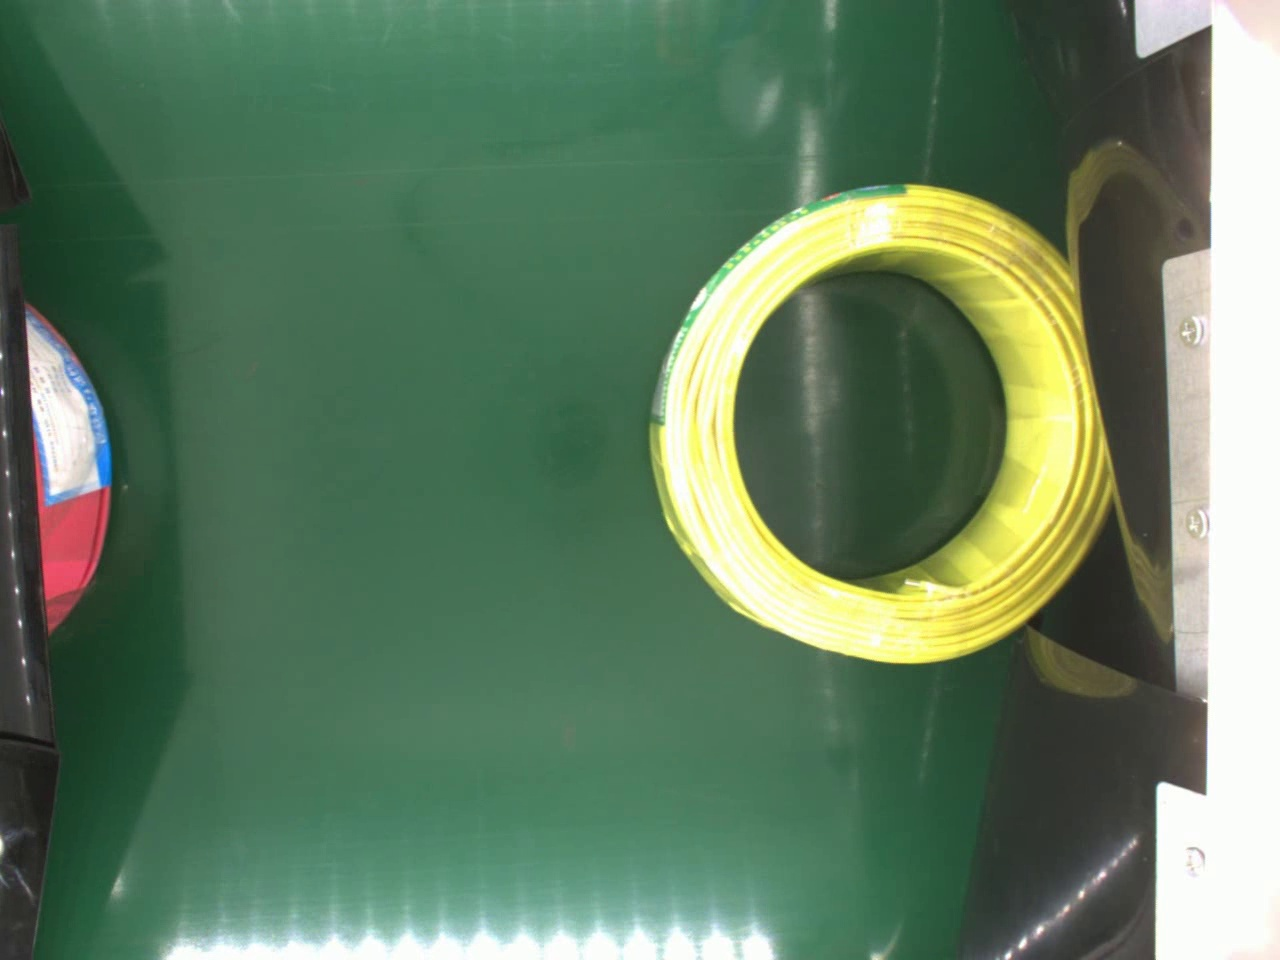yellow: (648, 179, 1113, 672)
